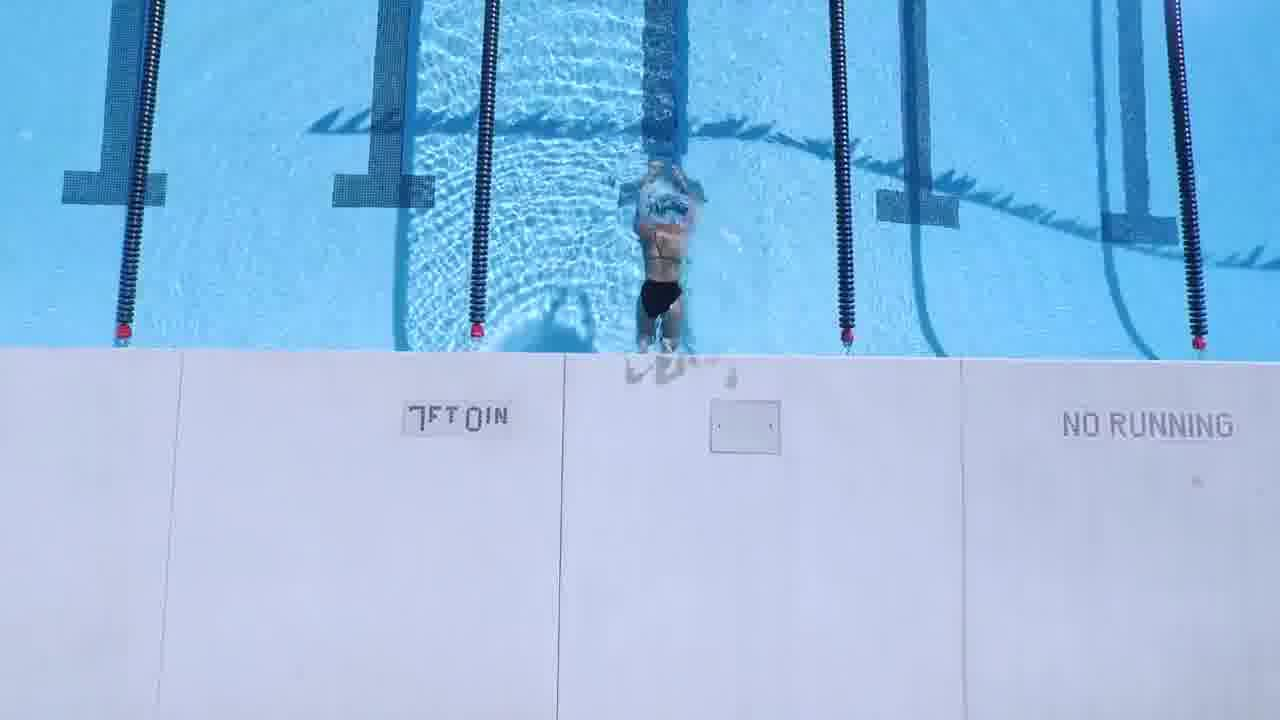human: (632, 162, 688, 359)
